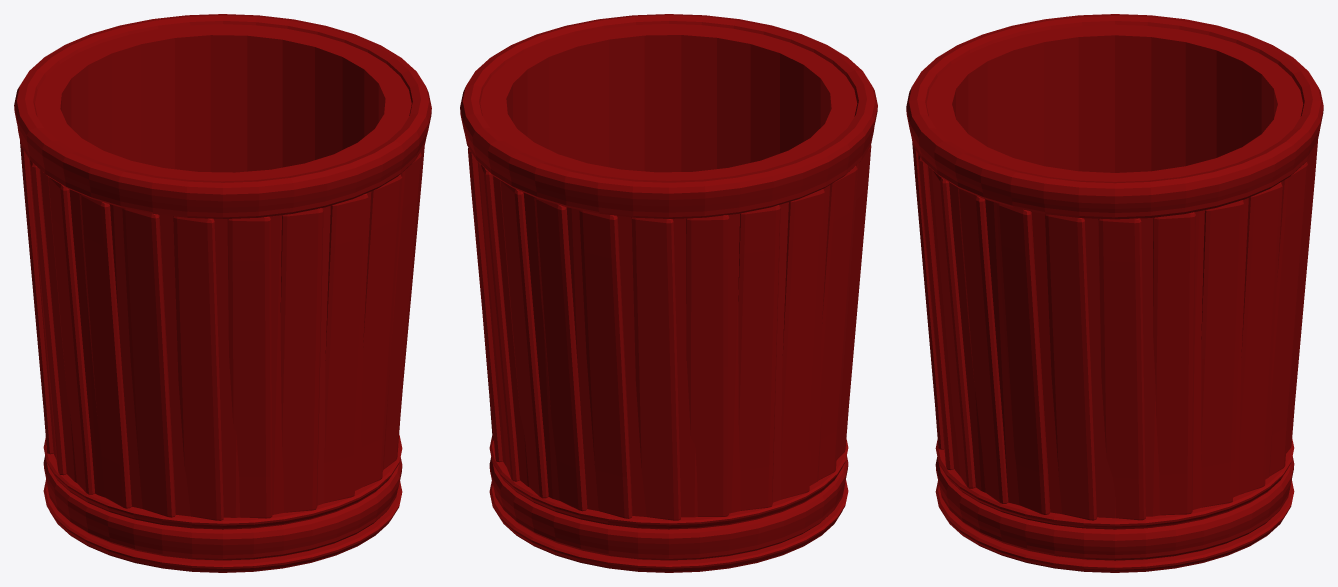
File: trashcan.glb
3 views of the same model, side by side, from view 1: azimuth 30°, elevation 25°; view 2: azimuth 150°, elevation 25°; view 3: azimuth 270°, elevation 25° (orthographic).
Parts seen in each view (by area): view 1: Trash can 1; view 2: Trash can 1; view 3: Trash can 1.
Part boxes in pixels (box(x1,y1,x2,y2)): Trash can 1: box(14, 14, 431, 572); Trash can 1: box(460, 14, 877, 572); Trash can 1: box(906, 14, 1323, 572).
Size of the model in its own units: 0.1308 by 0.1392 by 0.1308.
